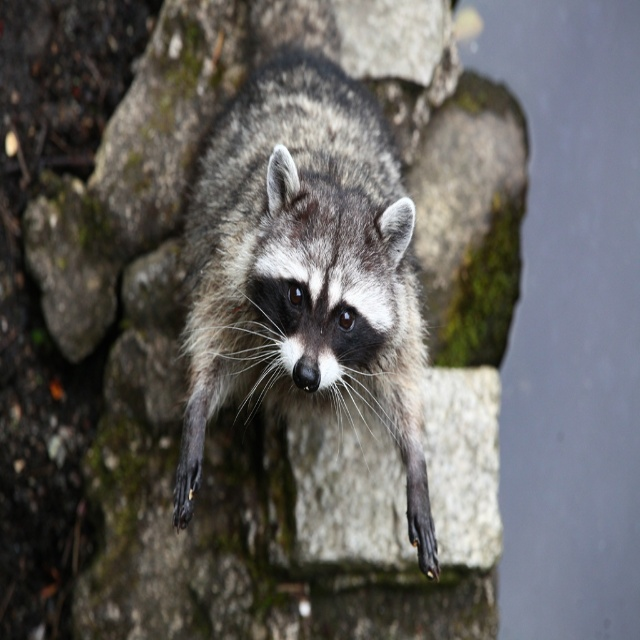Raccoon: (177, 46, 436, 581)
